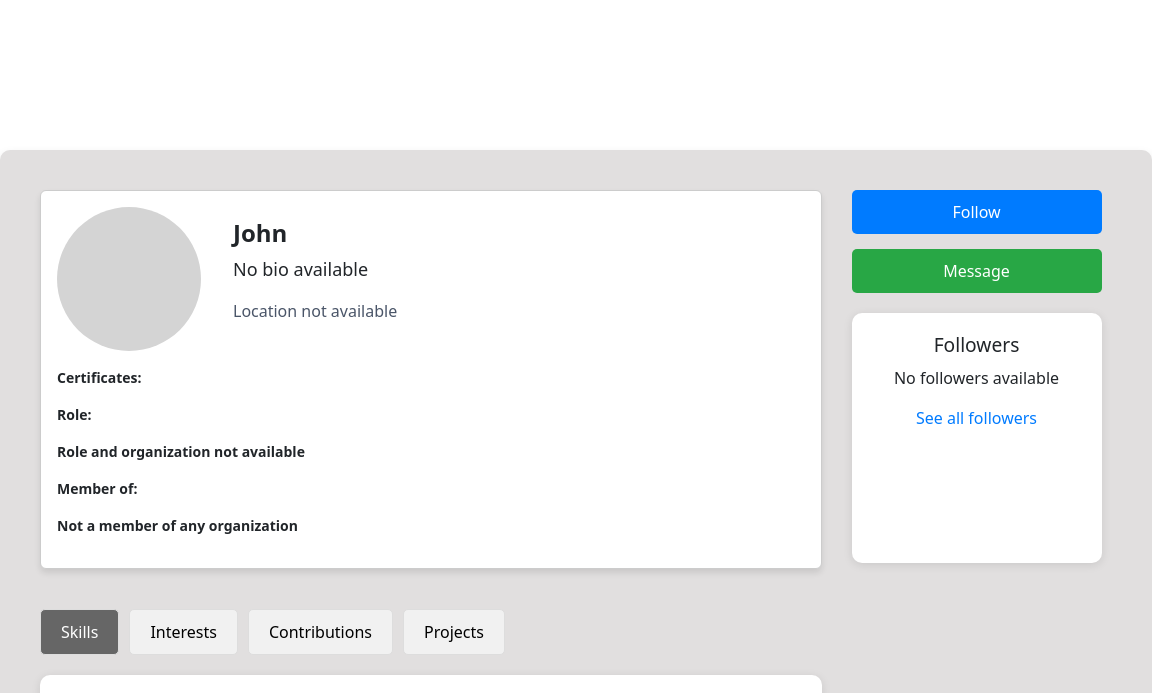
Scenario: VolunteerProfile › handles partial volunteer data
Expected: the heading "John" is shown, [233,216,287,249]
Click the button "Interests". click: [184, 632]
box: [129,609,238,655]
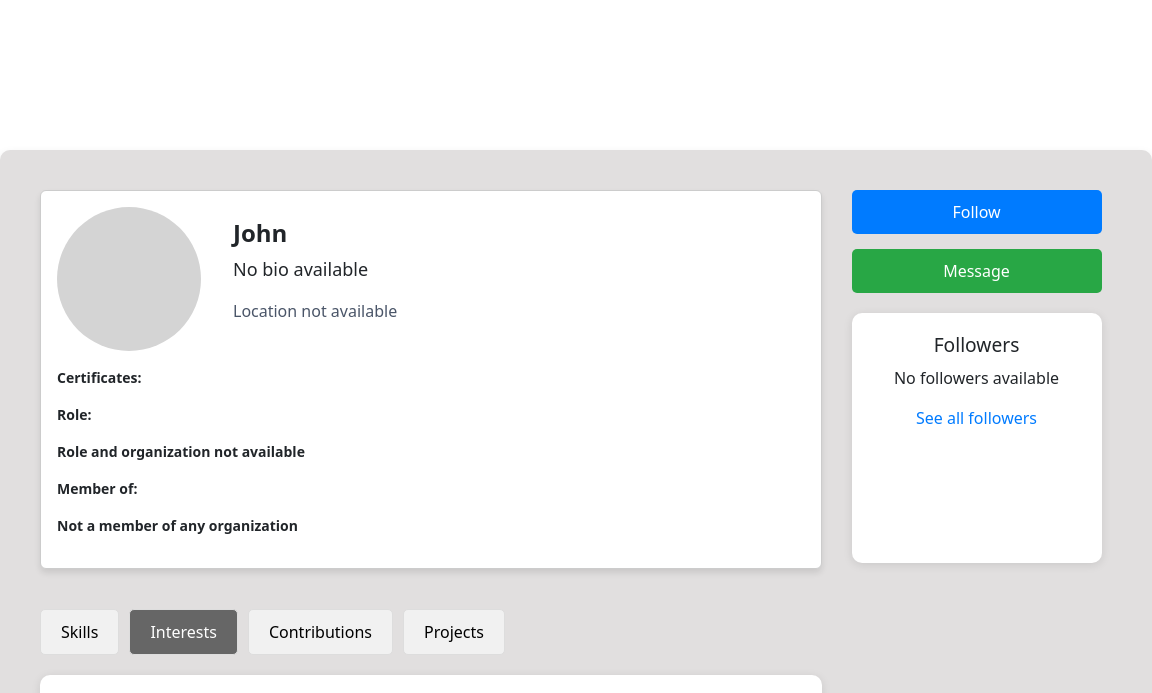
Simulate clicking the Projects tab
Click the button "Projects". click: [454, 632]
box: [403,609,505,655]
(page scrolled)
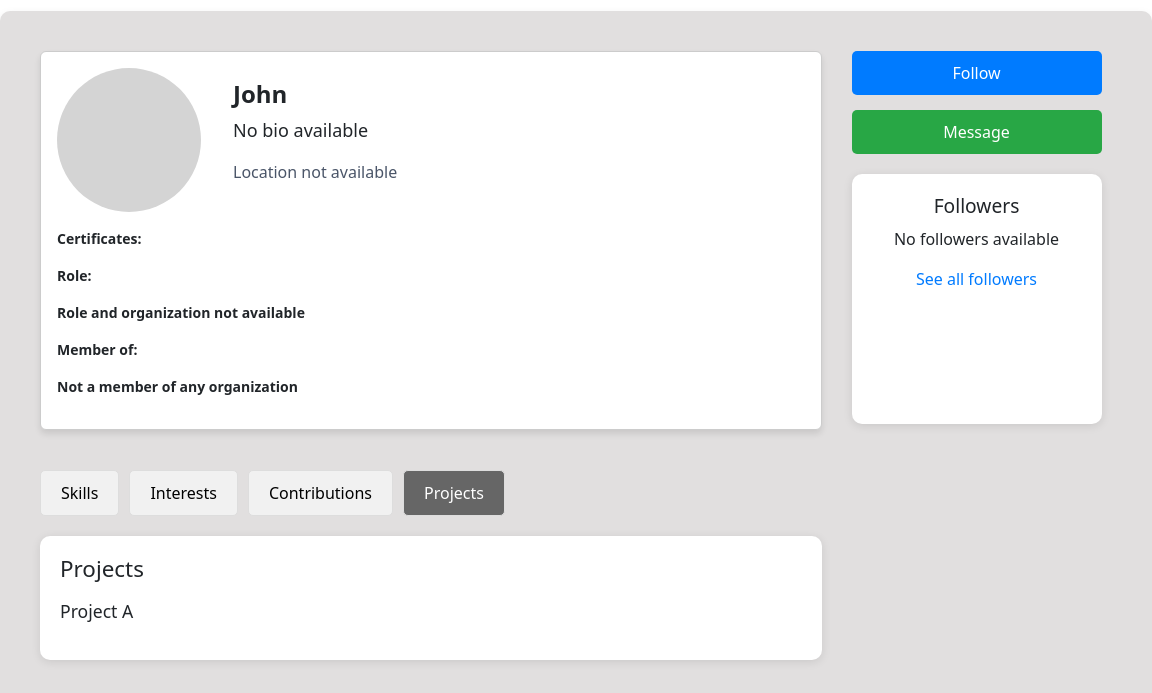
Expected: the list item "Project A" is shown, [60,599,133,623]
